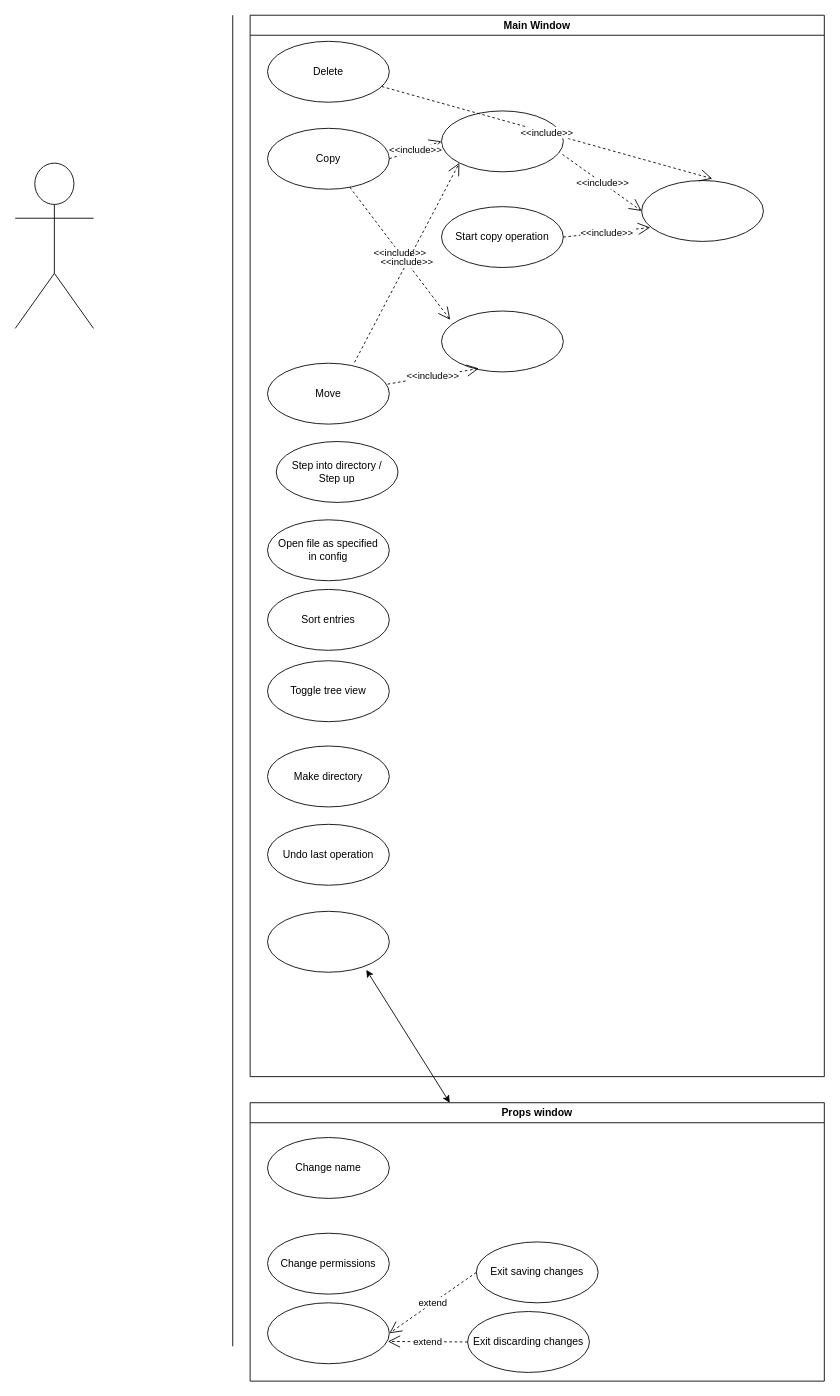
Image size: 840x1396. Some labels were removed from this diagram. Each missing label, with the centre of its shape:
"Actor" goes at (54,245).
"Confirm directory" goes at (502,341).
"Exit" goes at (328,1333).
"Open properties window for file" goes at (328,941).
"Select files for operation" goes at (702,210).
"Start Move operation" goes at (502,141).
